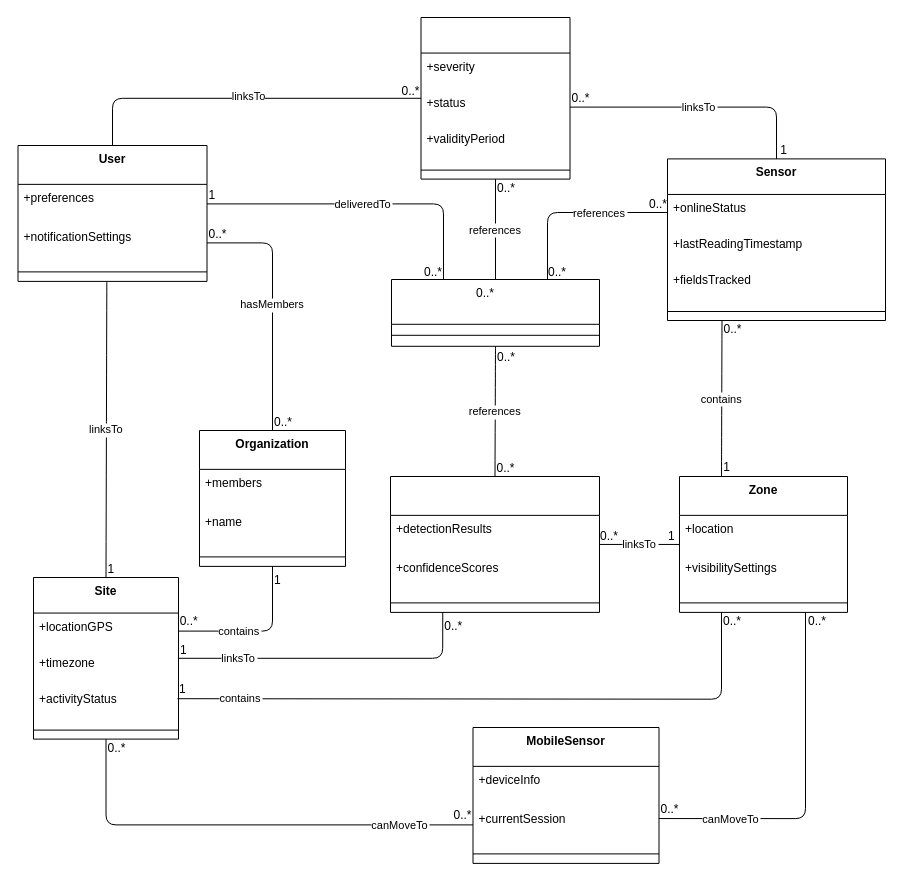
This 903x881 diagram has some shape labels left out. Each missing label, with the box of its shape:
Alert: (420, 16, 570, 179)
ImageAnalysis: (390, 476, 600, 612)
Notification: (390, 278, 600, 346)
